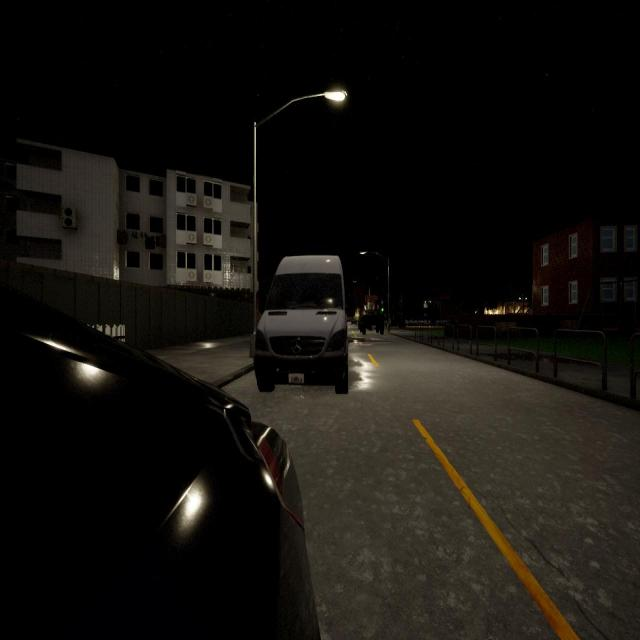Vehicle: (0, 293, 321, 640), (252, 256, 354, 394), (358, 309, 385, 335), (352, 318, 358, 325)
traffic_light: (381, 306, 384, 312)
